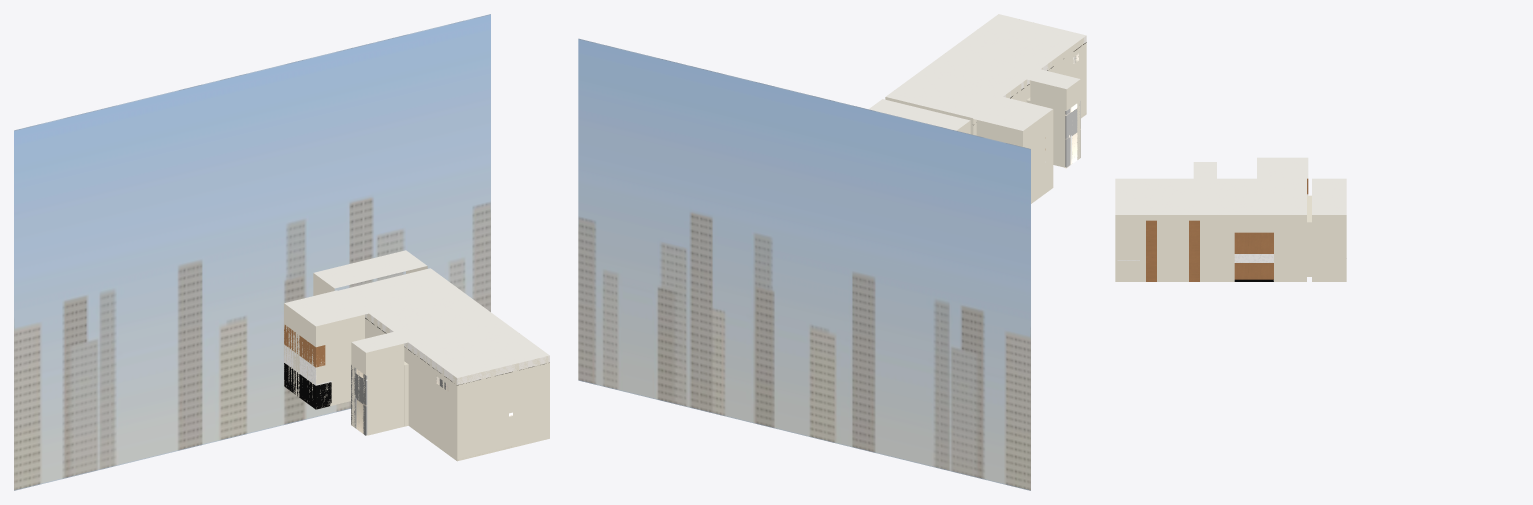
File: hall_v1-web.glb
The picture shows the model from 3 angles, left to right: view 1: azimuth 30°, elevation 25°; view 2: azimuth 150°, elevation 25°; view 3: azimuth 270°, elevation 25°; orthographic projection. The views are drawn at different scales.
Parts seen in each view (by area): view 1: Outside View, Shell_Ceiling, Shell_Front Wall, Shell_Left Wall, Shell_Corridor Side A, Shell_Kitchen Side A, LM_KitchenGlimpse, Shell_Balcony Ceiling Outside, Shell_Kitchen Ceiling, Shell_Kitchen Back, LM_FalseCeiling, LM_BedDoor (+2 smaller); view 2: Outside View, Shell_Ceiling, Shell_Kitchen Back, Shell_Left Wall, Shell_Corridor Side B, Shell_Kitchen Ceiling, Shell_Balcony Ceiling Outside, LM_BedDoor, Shell_Kitchen Side B, Shell_Corridor Ceiling, Shell_Corridor End; view 3: Shell_Right Wall, Shell_Ceiling, Shell_Balcony Side R Outside, LM_Crockery, LM_TVFlutes, Shell_Balcony Ceiling Outside, Shell_Kitchen Ceiling.
Part boxes in pixels (x1,y1,x2,y2): Outside View: (14,14,490,490); Shell_Ceiling: (338,268,549,377); Shell_Front Wall: (457,356,549,460); Shell_Left Wall: (365,313,457,460); Shell_Corridor Side A: (366,343,404,435); Shell_Kitchen Side A: (316,314,364,408); LM_KitchenGlimpse: (284,325,332,409); Shell_Balcony Ceiling Outside: (314,250,426,288); Shell_Kitchen Ceiling: (284,290,368,326); Shell_Kitchen Back: (284,303,315,401); LM_FalseCeiling: (365,314,549,384); LM_BedDoor: (351,365,367,436); Outside View: (578,38,1030,490); Shell_Ceiling: (886,14,1086,118); Shell_Kitchen Back: (1023,109,1053,203); Shell_Left Wall: (973,37,1086,135); Shell_Corridor Side B: (1030,80,1066,167); Shell_Kitchen Ceiling: (973,97,1052,130); Shell_Balcony Ceiling Outside: (869,99,970,130); LM_BedDoor: (1065,100,1080,168); Shell_Kitchen Side B: (976,120,1022,146); Shell_Corridor Ceiling: (1027,69,1080,89); Shell_Corridor End: (1066,79,1080,163); Shell_Right Wall: (1115,215,1306,281); Shell_Ceiling: (1115,178,1306,214); Shell_Balcony Side R Outside: (1312,215,1346,281); LM_Crockery: (1234,232,1274,281); LM_TVFlutes: (1146,220,1199,281); Shell_Balcony Ceiling Outside: (1312,178,1346,214); Shell_Kitchen Ceiling: (1257,157,1308,178).
Bounding box in the file's own units: 18 × 13 × 16.4.
95 materials, 61 textured.
